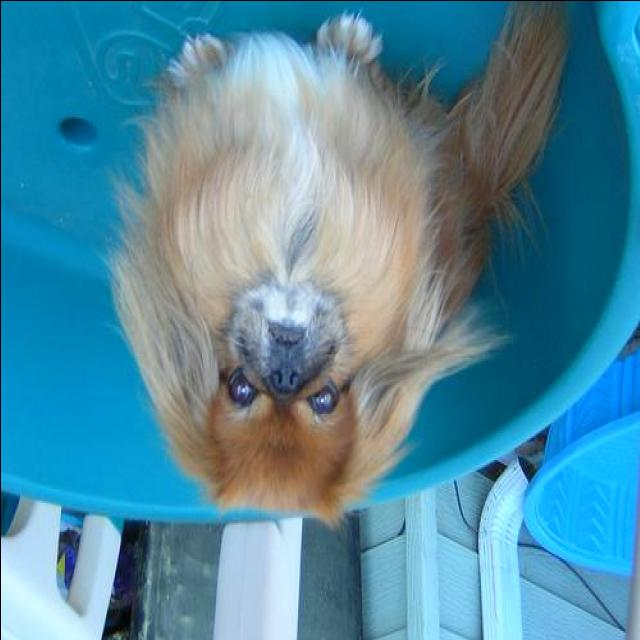pekinese: (107, 1, 568, 532)
